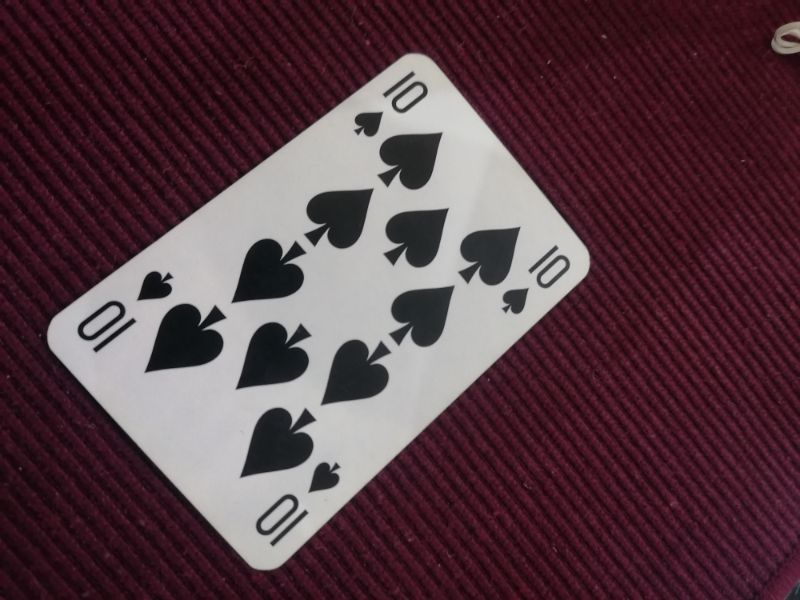Ts: (73, 264, 179, 357), (255, 455, 347, 551), (498, 242, 578, 319), (350, 70, 432, 140)
